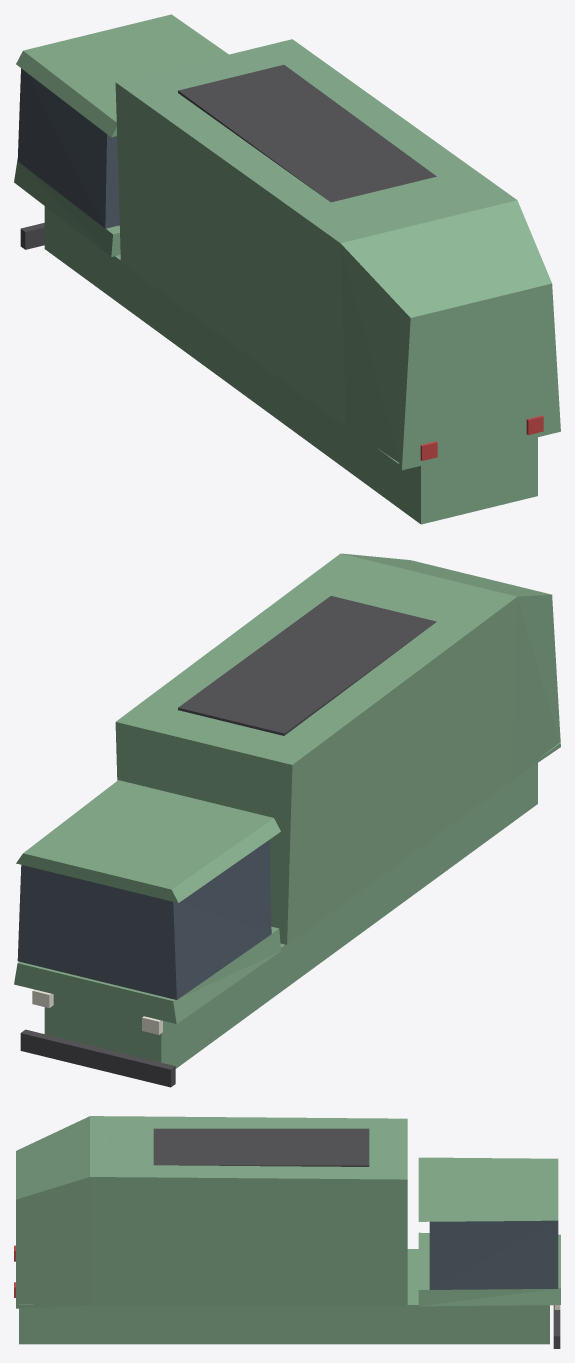
File: garbage_truck.glb
3 views of the same model, one above another, from view 1: azimuth 30°, elevation 25°; view 2: azimuth 150°, elevation 25°; view 3: azimuth 270°, elevation 25° (orthographic). The views are drawn at different scales.
Parts seen in each view (by area): view 1: Garbage Truck; view 2: Garbage Truck; view 3: Garbage Truck.
Boxes of the visible parts, bbox=[...] form: Garbage Truck: bbox=[14, 14, 560, 524]; Garbage Truck: bbox=[14, 553, 560, 1087]; Garbage Truck: bbox=[14, 1116, 560, 1348].
Size of the model in its own units: 2.5 by 3.4 by 9.49.
